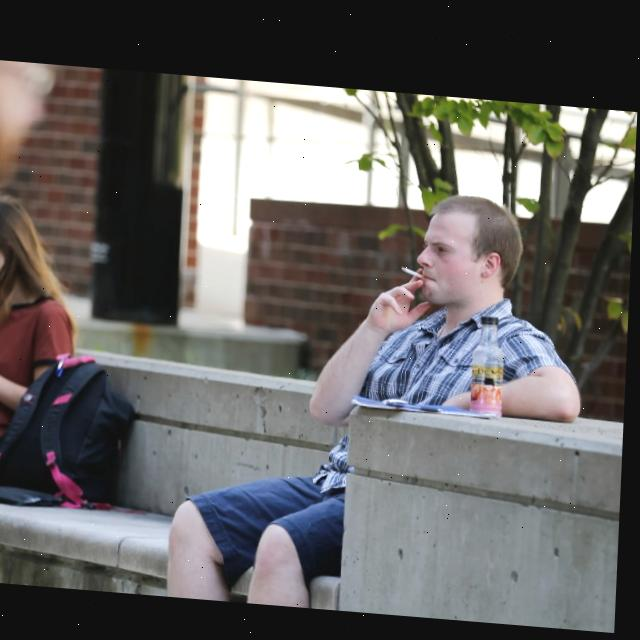cigarette: (404, 259, 426, 271)
